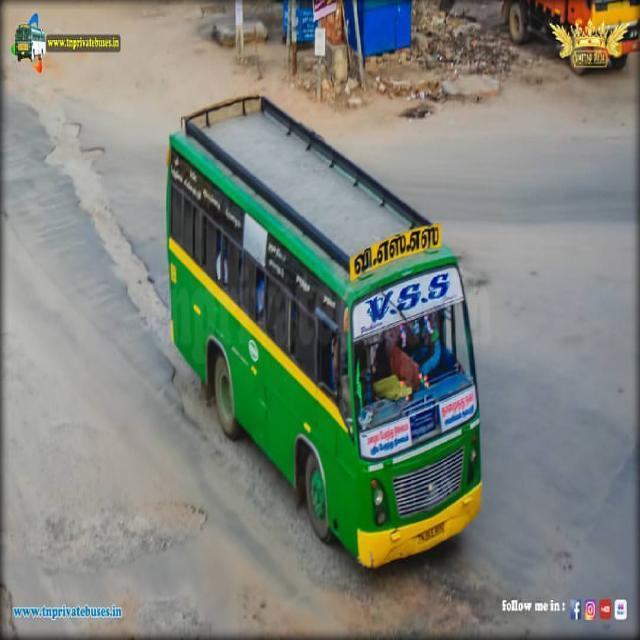Bus: (163, 91, 492, 590)
